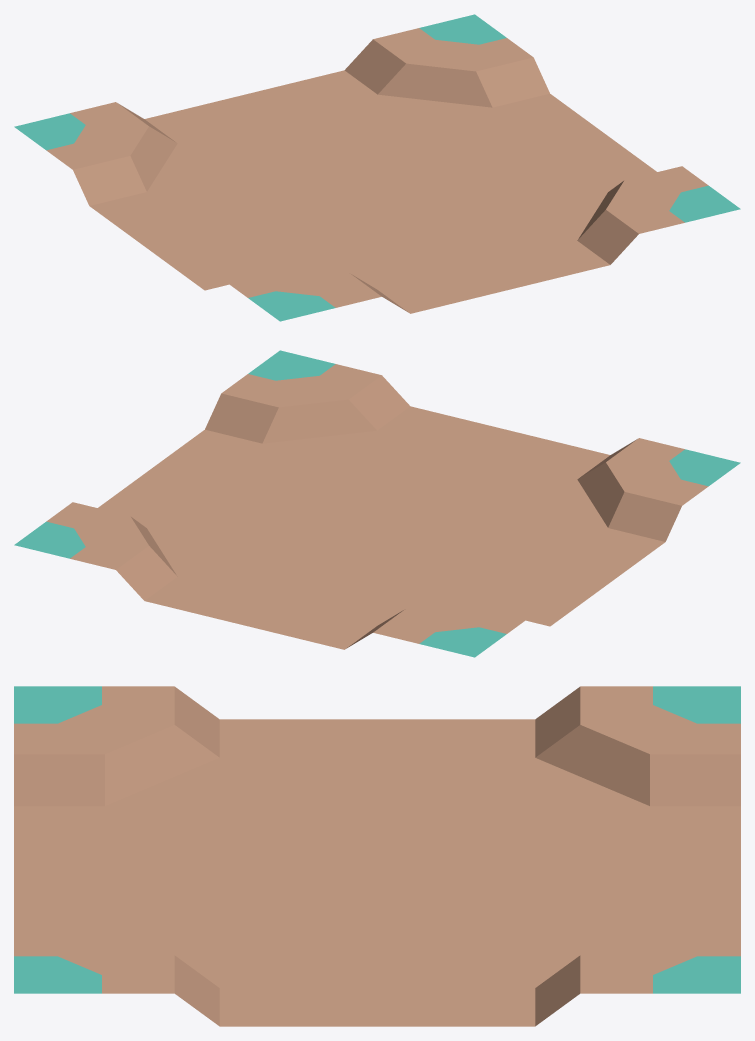
File: ground_pathCross.glb
The picture shows the model from 3 angles, top to bottom: view 1: azimuth 30°, elevation 25°; view 2: azimuth 150°, elevation 25°; view 3: azimuth 270°, elevation 25°; orthographic projection. The views are drawn at different scales.
Parts seen in each view (by area): view 1: ground_pathCross; view 2: ground_pathCross; view 3: ground_pathCross.
Part boxes in pixels (<box>): ground_pathCross: <box>14,14,740,321</box>; ground_pathCross: <box>14,350,740,657</box>; ground_pathCross: <box>14,686,740,1026</box>.
Size of the model in its own units: 1 by 0.05 by 1.
